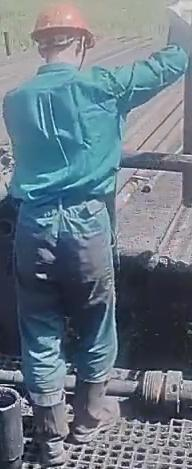gloves: (163, 0, 192, 51)
helmet: (29, 5, 96, 51)
vest: (6, 68, 120, 212)
